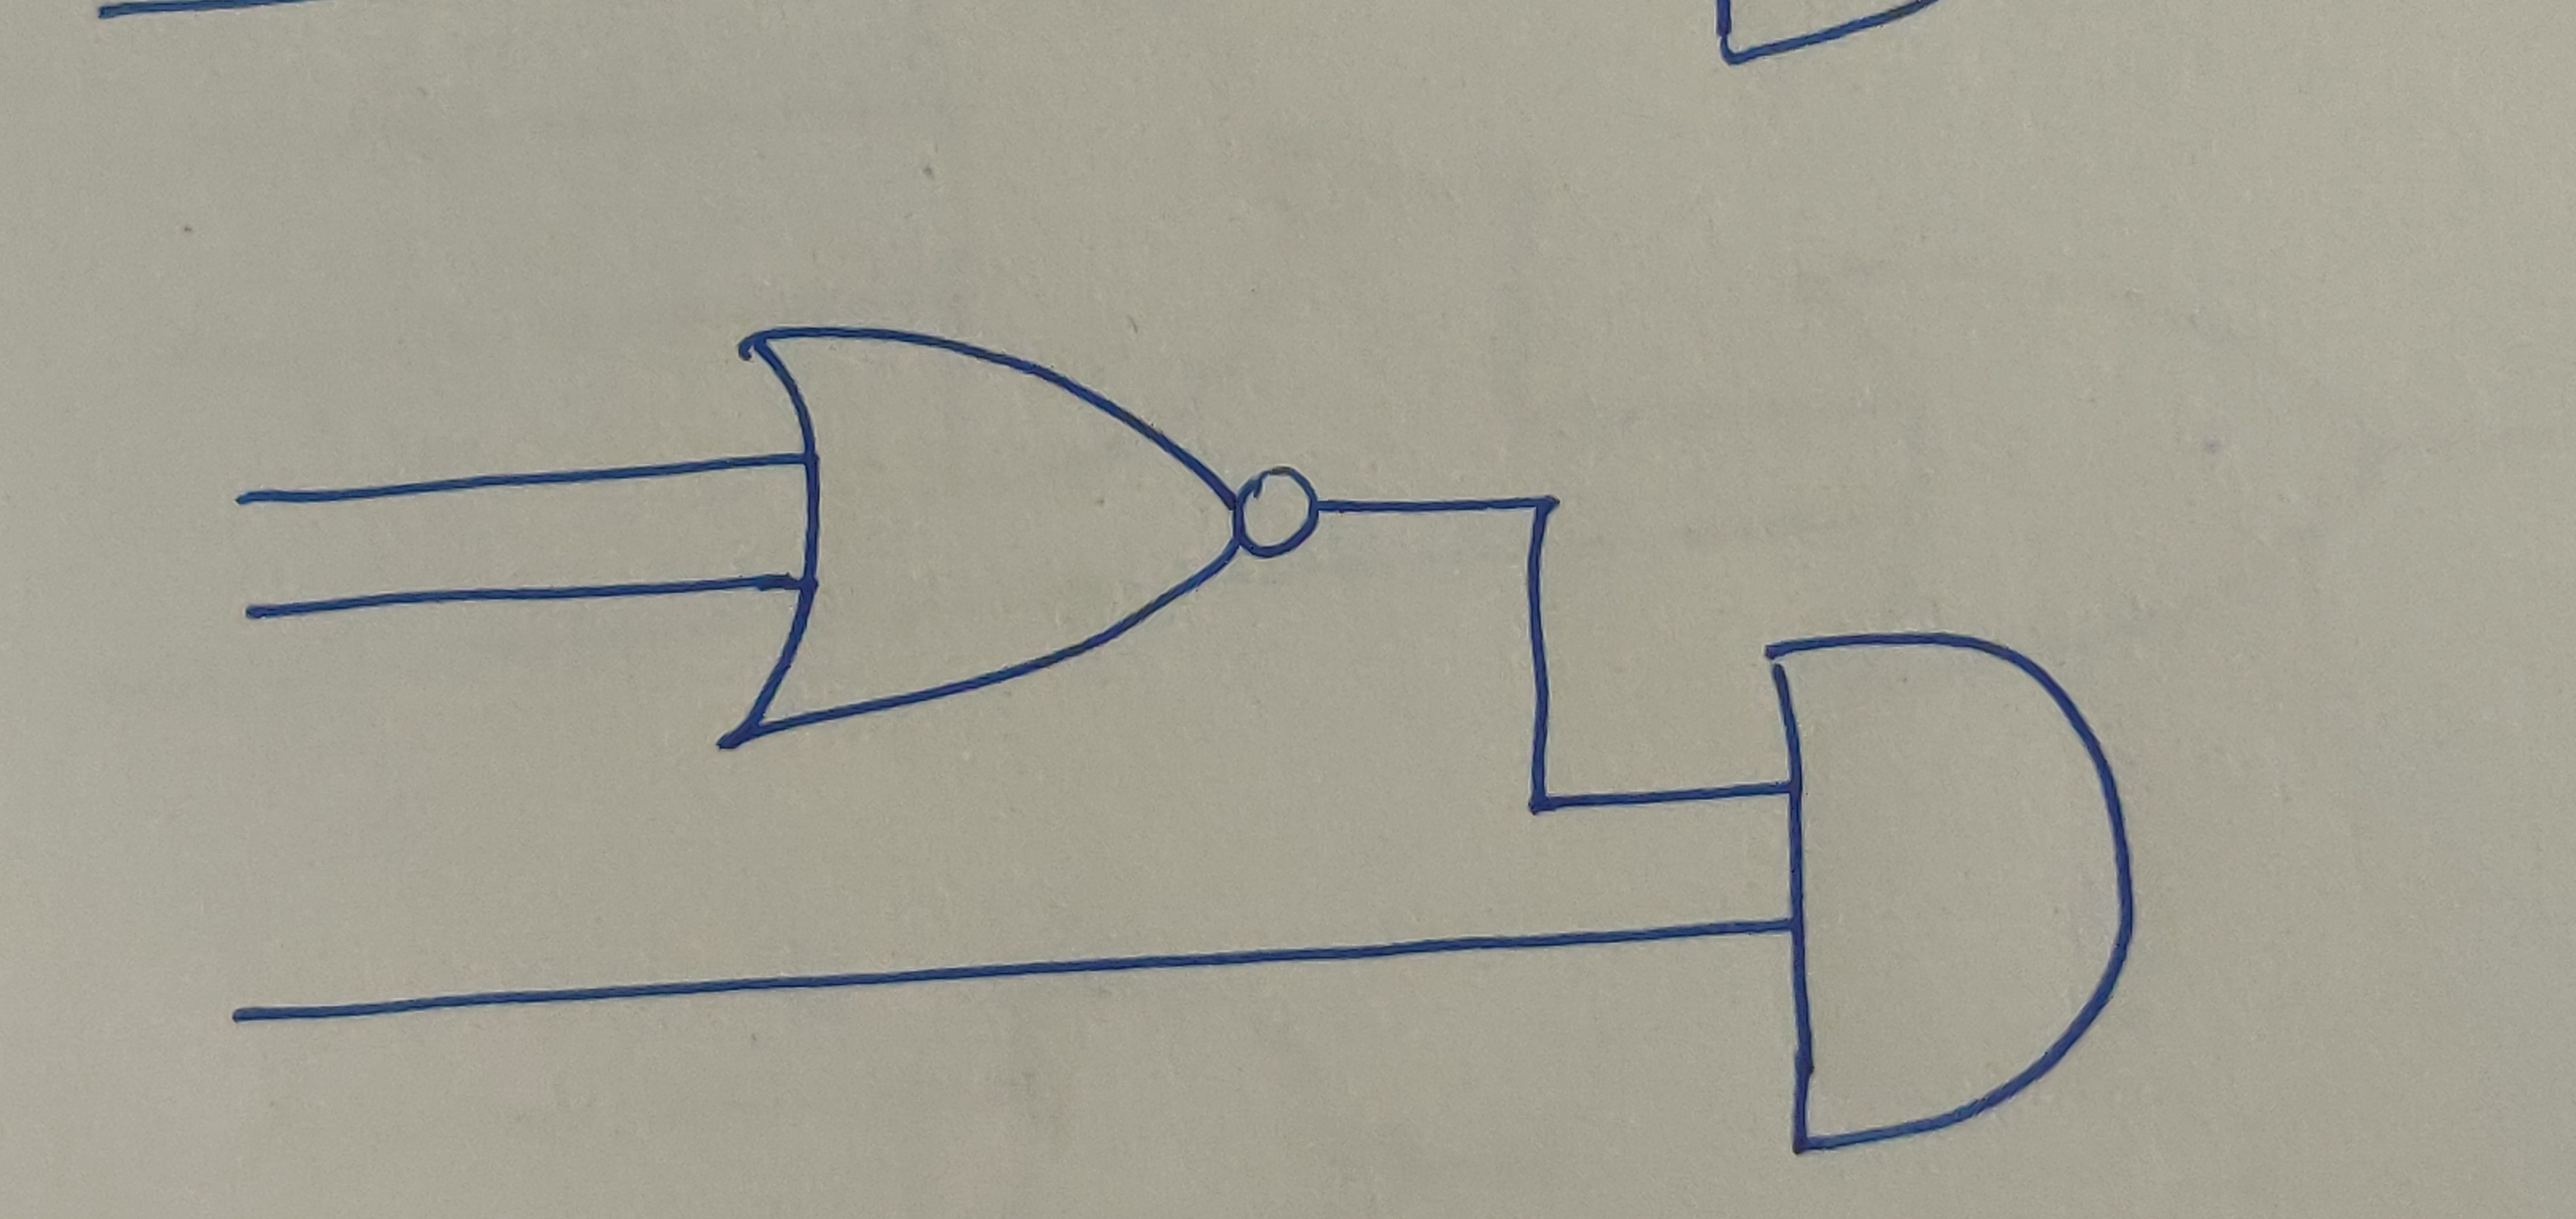and: (1756, 632, 2137, 1150)
not: (1235, 462, 1321, 567)
or: (748, 325, 1245, 754)
